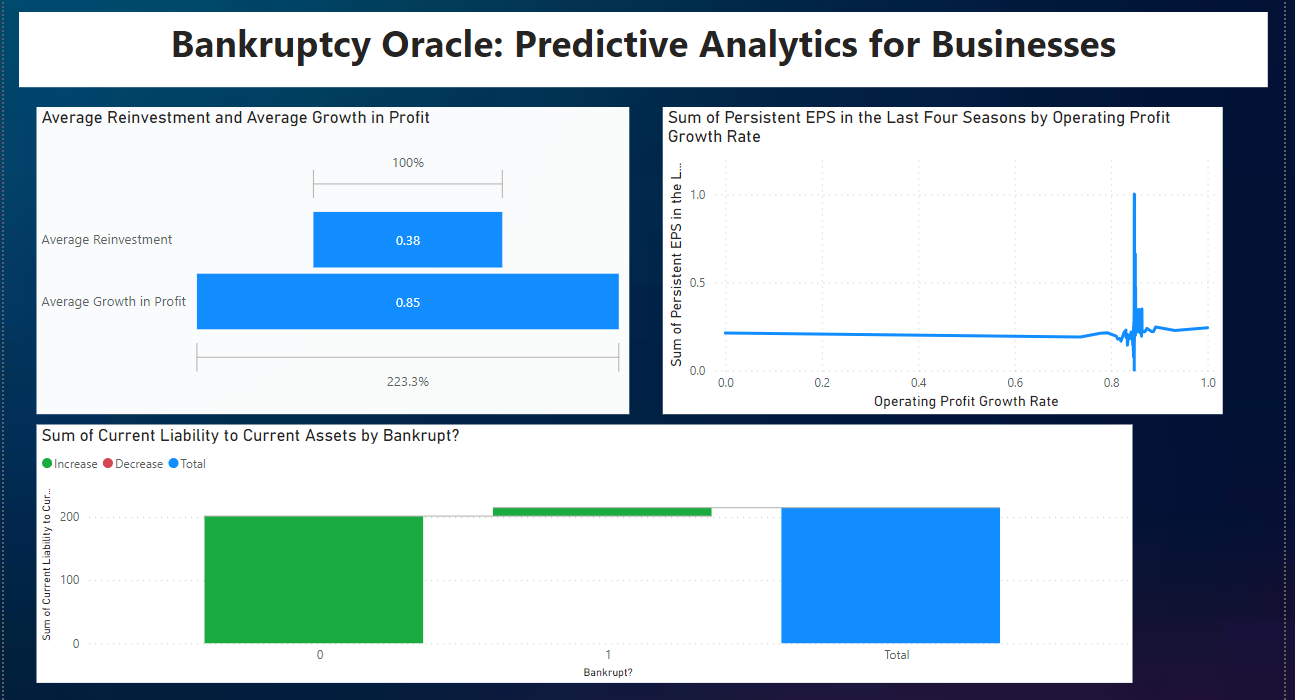

The dashboard page shown, as its layout file describes it:
{"tool":"powerbi","page":{"name":"Analysis","canvas":[1280,720],"ordinal":0},"visuals":[{"type":"funnel","fields":{"Y":["data.Average Reinvestment","data.AverageMeasure"]},"box":[32.5,110,592.5,307.5],"z":0},{"type":"textbox","box":[15,15,1248.8,75],"z":1000},{"type":"lineChart","fields":{"Y":["Sum(data. Persistent EPS in the Last Four Seasons)"],"Category":["data. Operating Profit Growth Rate"]},"box":[658.8,110,560,307.5],"z":2000},{"type":"waterfallChart","fields":{"Category":["data.Bankrupt?"],"Y":["Sum(data. Current Liability to Current Assets)"]},"box":[32.5,427.5,1096.2,258.8],"z":2001}]}

Visuals, with their boxes in screenshot pixels (x1, y1, x2, y2):
funnel - data.Average Reinvestment x data.AverageMeasure: [x1=36, y1=106, x2=626, y2=412]
textbox: [x1=18, y1=12, x2=1262, y2=86]
lineChart - Sum(data. Persistent EPS in the Last Four Seasons) x data. Operating Profit Growth Rate: [x1=660, y1=106, x2=1217, y2=412]
waterfallChart - data.Bankrupt? x Sum(data. Current Liability to Current Assets): [x1=36, y1=422, x2=1128, y2=680]
